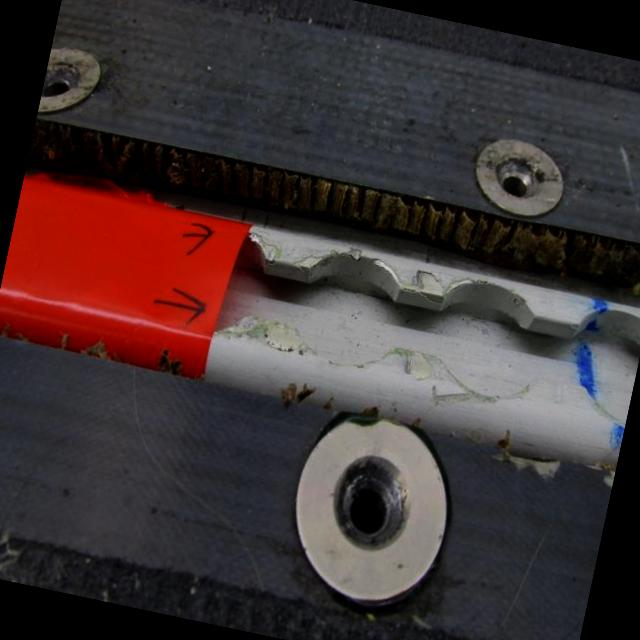Missing Fastener: (269, 396, 480, 634), (458, 116, 579, 232), (36, 36, 116, 128)
